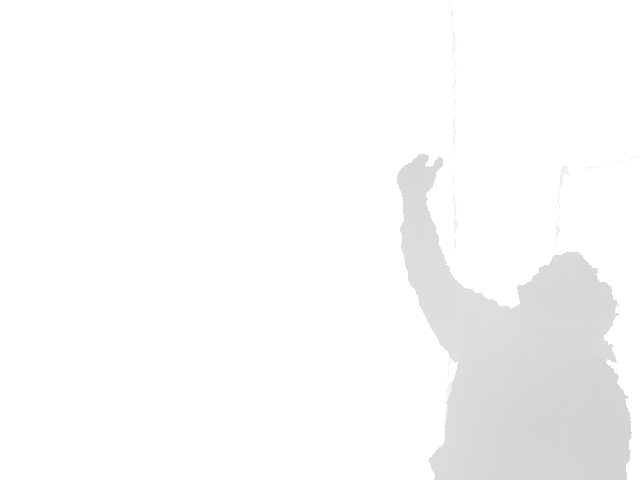hand: (395, 152, 444, 197)
head: (515, 250, 618, 345)
person: (395, 152, 634, 480)
